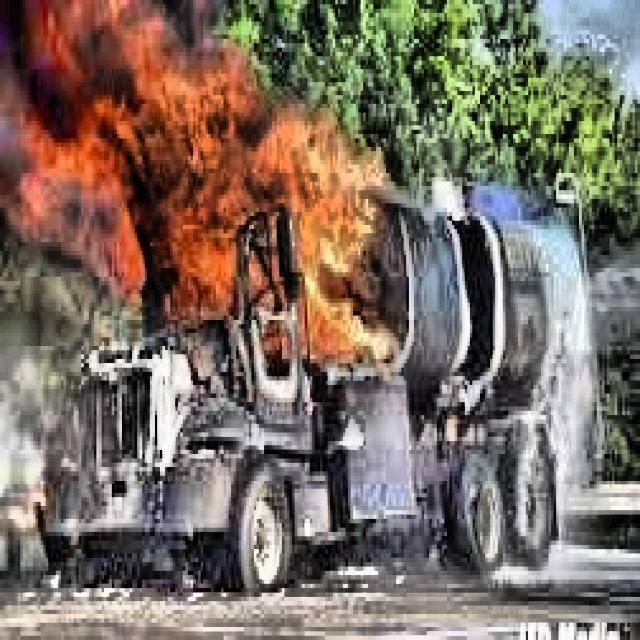Fire: (1, 0, 380, 370)
